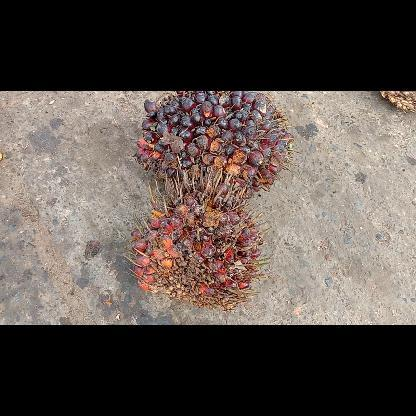Kurang masak: (132, 90, 298, 198)
TBS masak: (122, 166, 270, 312)
